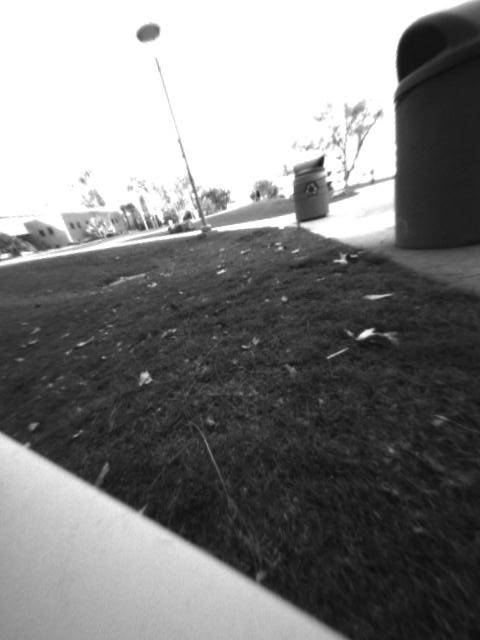trashcan: (393, 5, 480, 251)
